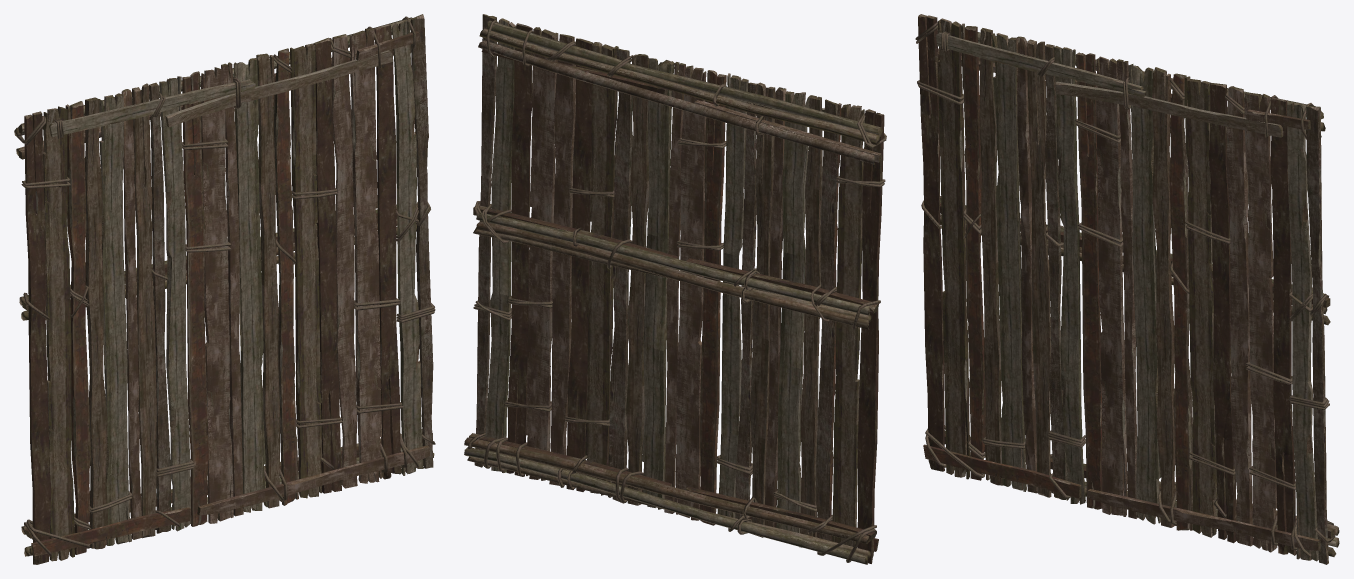
Rendered from GEN_PRO_Bridge_XLarge_Ramp_LOD0-transformed.glb.
3 renders of one model, left to right at view 1: azimuth 30°, elevation 25°; view 2: azimuth 150°, elevation 25°; view 3: azimuth 330°, elevation 25°, orthographic.
Visible parts, largest first — view 1: GEN_PRO_Bridge_XLarge_Ramp_LOD0; view 2: GEN_PRO_Bridge_XLarge_Ramp_LOD0; view 3: GEN_PRO_Bridge_XLarge_Ramp_LOD0.
Boxes of the visible parts, x1,y1,x2,y2 form: GEN_PRO_Bridge_XLarge_Ramp_LOD0: (14, 14, 435, 564); GEN_PRO_Bridge_XLarge_Ramp_LOD0: (464, 14, 886, 564); GEN_PRO_Bridge_XLarge_Ramp_LOD0: (915, 14, 1339, 564).
Size of the model in its own units: 0.1151 by 0.1211 by 0.00903.
2 materials, 2 textured.
